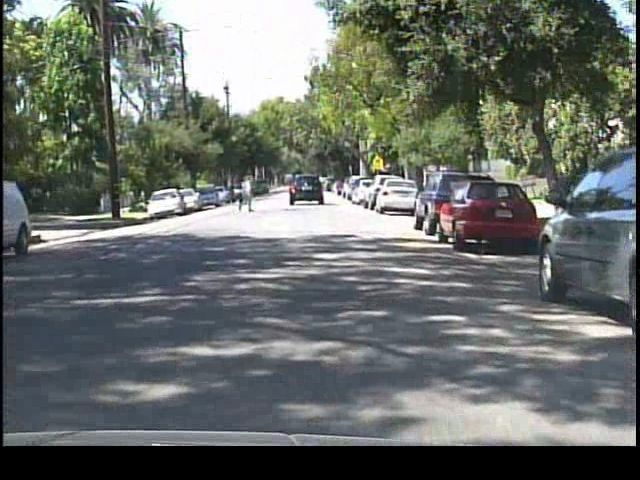person: (235, 162, 258, 207)
